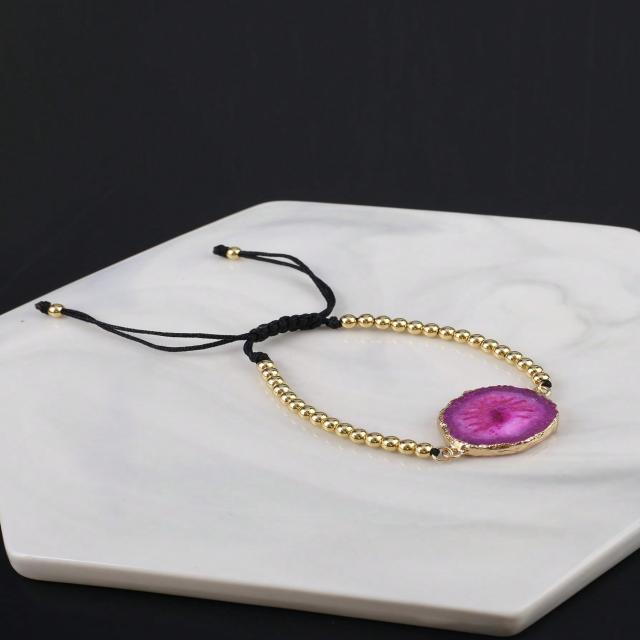bracelet: (16, 191, 640, 568)
